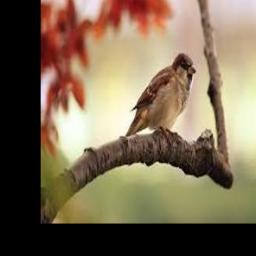Sparrow: (125, 53, 196, 137)
